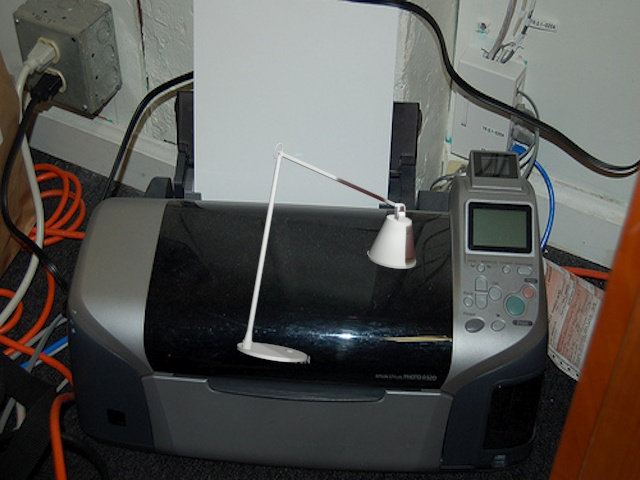desk_lamp: (233, 137, 423, 368)
